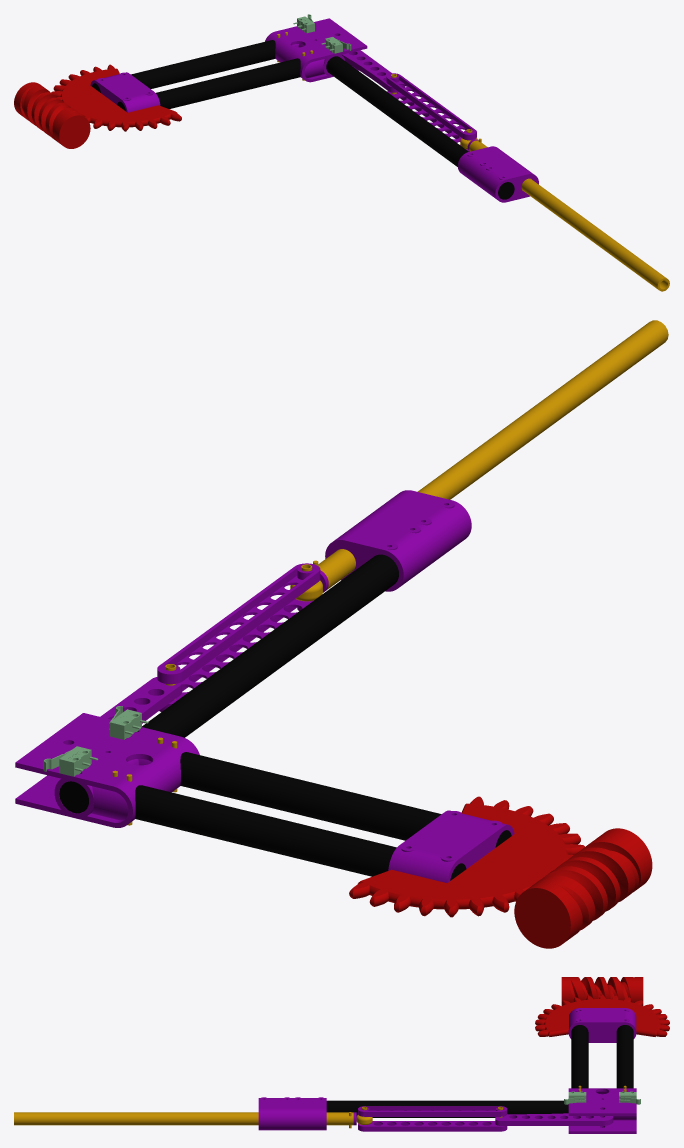
Rendered from Test_Mesh_Leg_6-23-2026.gltf.
The picture shows the model from 3 angles, top to bottom: view 1: azimuth 30°, elevation 25°; view 2: azimuth 150°, elevation 25°; view 3: azimuth 270°, elevation 25°; orthographic projection. The views are drawn at different scales.
Visible parts, largest first — view 1: object 11, object 20, object 19, object 13, object 10, object 14, object 9, object 12, object 29, object 5, object 30, object 1 (+1 smaller); view 2: object 11, object 19, object 20, object 10, object 14, object 13, object 9, object 12, object 5, object 30, object 29, object 6 (+1 smaller); view 3: object 9, object 11, object 20, object 19, object 10, object 12, object 5, object 6, object 1, object 29, object 30, object 13 (+1 smaller).
Part boxes in pixels (x1,y1,x2,y2): object 11: (51, 64, 181, 131); object 20: (326, 56, 514, 199); object 19: (265, 18, 367, 82); object 13: (117, 58, 300, 111); object 10: (14, 82, 90, 148); object 14: (92, 40, 275, 92); object 9: (469, 140, 669, 291); object 12: (90, 72, 160, 112); object 29: (476, 160, 538, 202); object 5: (386, 73, 476, 140); object 30: (457, 146, 515, 185); object 1: (342, 50, 405, 92); object 11: (349, 796, 584, 917); object 19: (15, 713, 199, 827); object 20: (59, 554, 398, 813); object 10: (514, 828, 652, 948); object 14: (135, 785, 466, 880); object 13: (180, 752, 511, 847); object 9: (318, 320, 668, 589); object 12: (388, 810, 514, 882); object 5: (157, 563, 320, 684); object 30: (325, 515, 437, 591); object 29: (367, 490, 471, 562); object 6: (159, 599, 313, 711); object 9: (14, 1112, 353, 1125); object 11: (535, 995, 669, 1036); object 20: (326, 1100, 568, 1117); object 19: (568, 1088, 636, 1133); object 10: (561, 977, 643, 1005); object 12: (568, 1008, 636, 1042); object 5: (358, 1106, 507, 1116); object 6: (358, 1121, 507, 1131); object 1: (495, 1113, 613, 1125); object 29: (258, 1097, 292, 1130); object 30: (292, 1097, 326, 1130); object 13: (571, 1025, 588, 1088).
Size of the model in its own units: 0.2389 by 0.0261 by 0.4826.
